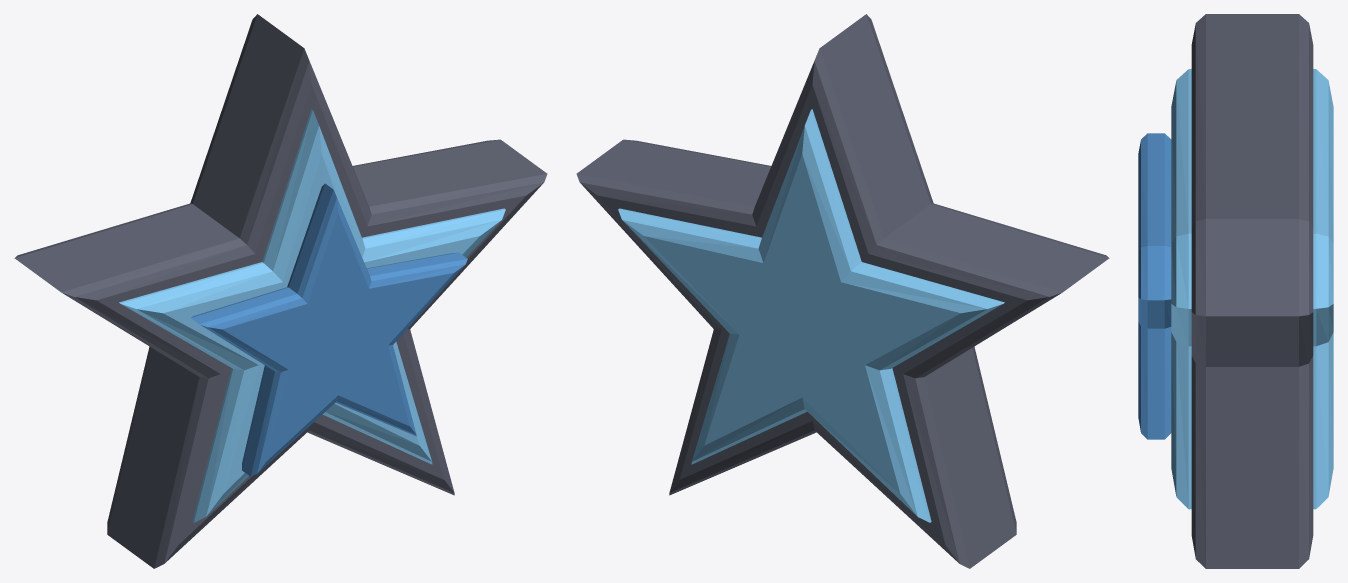
File: game-ui-icon-library-star-rare-d1ffd686__19011.glb
3 views of the same model, side by side, from view 1: azimuth 30°, elevation 25°; view 2: azimuth 150°, elevation 25°; view 3: azimuth 270°, elevation 25° (orthographic).
Parts seen in each view (by area): view 1: star-rare; view 2: star-rare; view 3: star-rare.
Part boxes in pixels (bbox=[...]): star-rare: bbox=[14, 14, 547, 568]; star-rare: bbox=[576, 14, 1109, 568]; star-rare: bbox=[1138, 14, 1333, 568].
Bounding box in the file's own units: 0.98 × 0.932 × 0.342.
